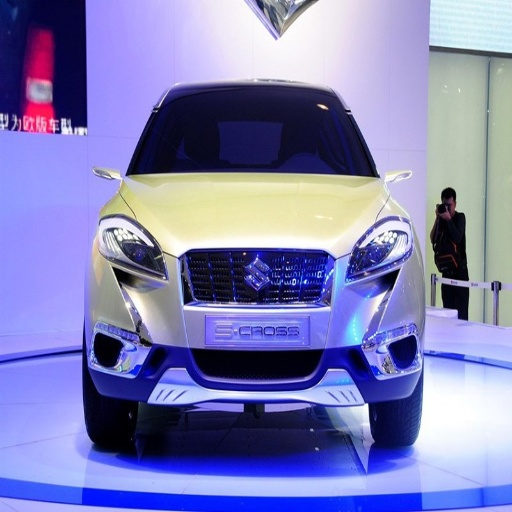front_bumper: (87, 250, 421, 407)
front_right_light: (96, 215, 166, 278)
hood: (121, 172, 392, 256)
